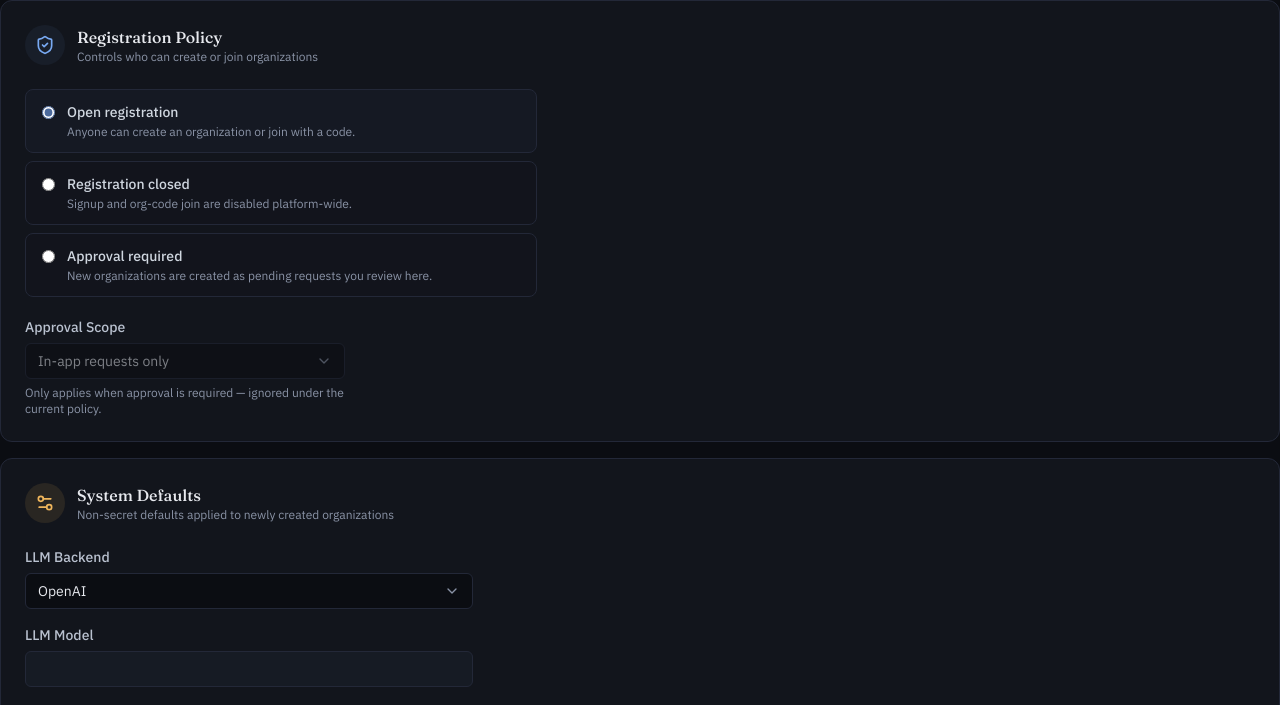
Scenario: SuperadminConfigPage › disables the scope select when the policy is not approvals
Check: the dropdown named "Approval Scope" is disabled, box [25, 343, 345, 379]
// Selecting the approvals policy re-enables it.
Step 1. Click the text "Approval required" → {"x": 125, "y": 256}, box [67, 247, 182, 265]
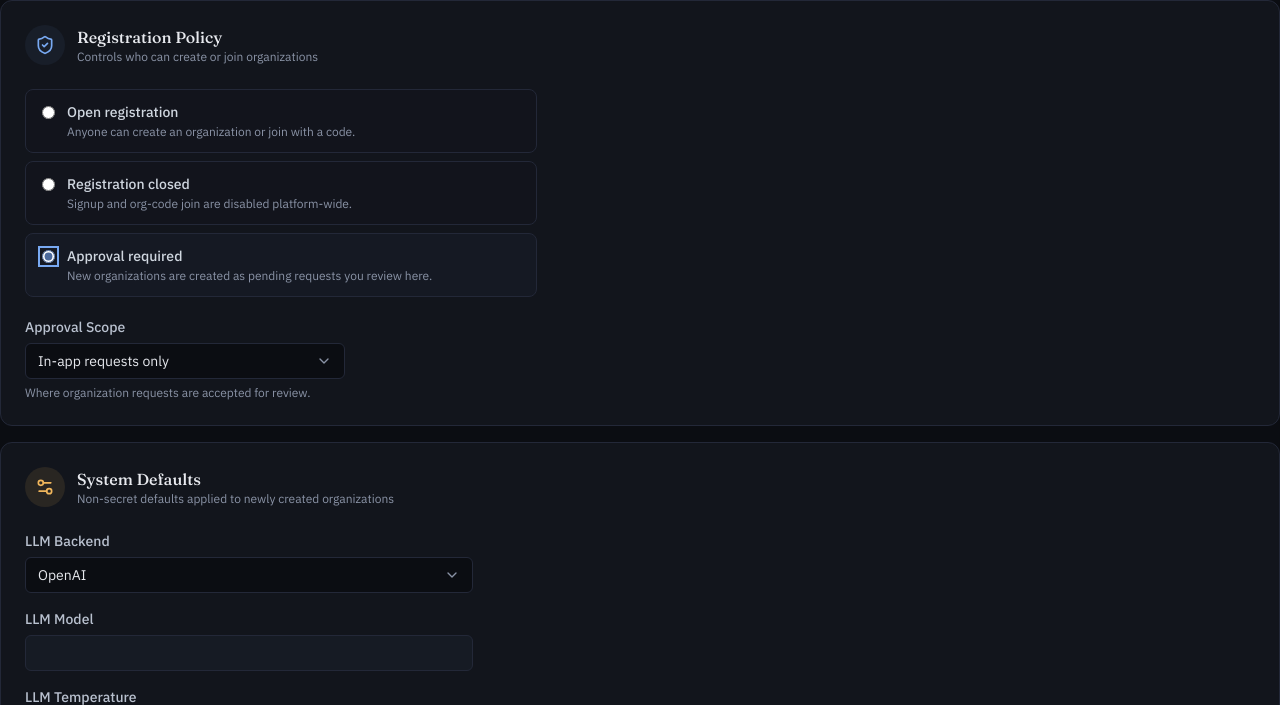
Check: the dropdown named "Approval Scope" is enabled, box [25, 343, 345, 379]
